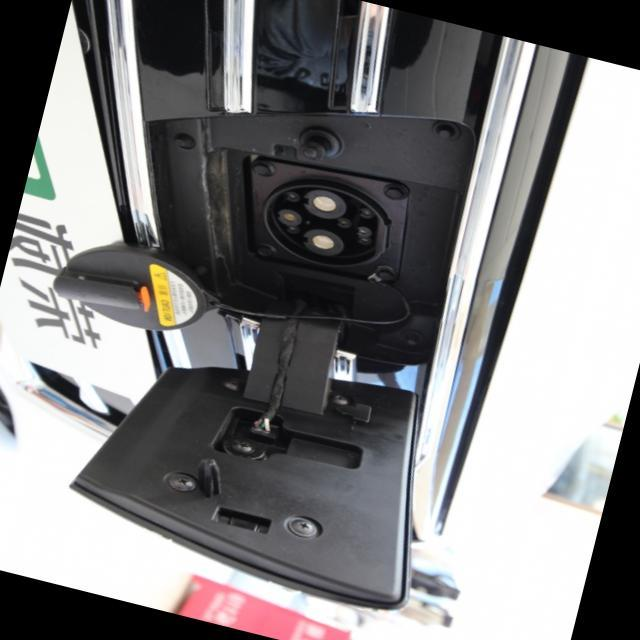GB-T: (243, 169, 423, 290)
